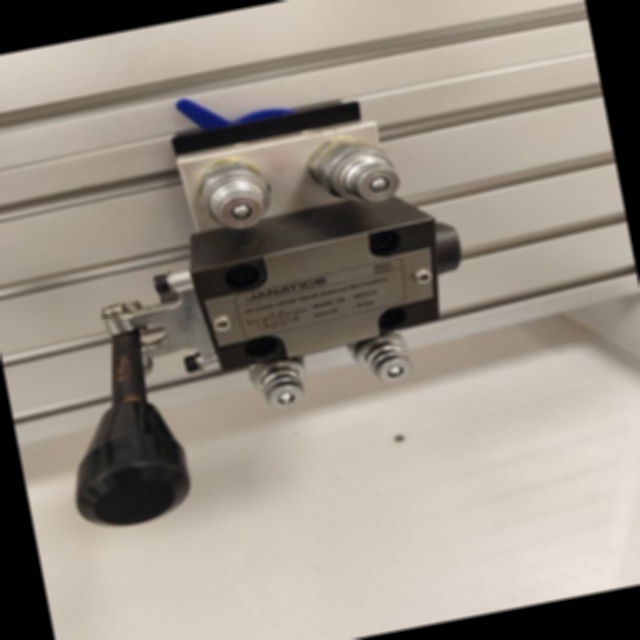4by3 hand lever valve: (2, 52, 512, 542)
